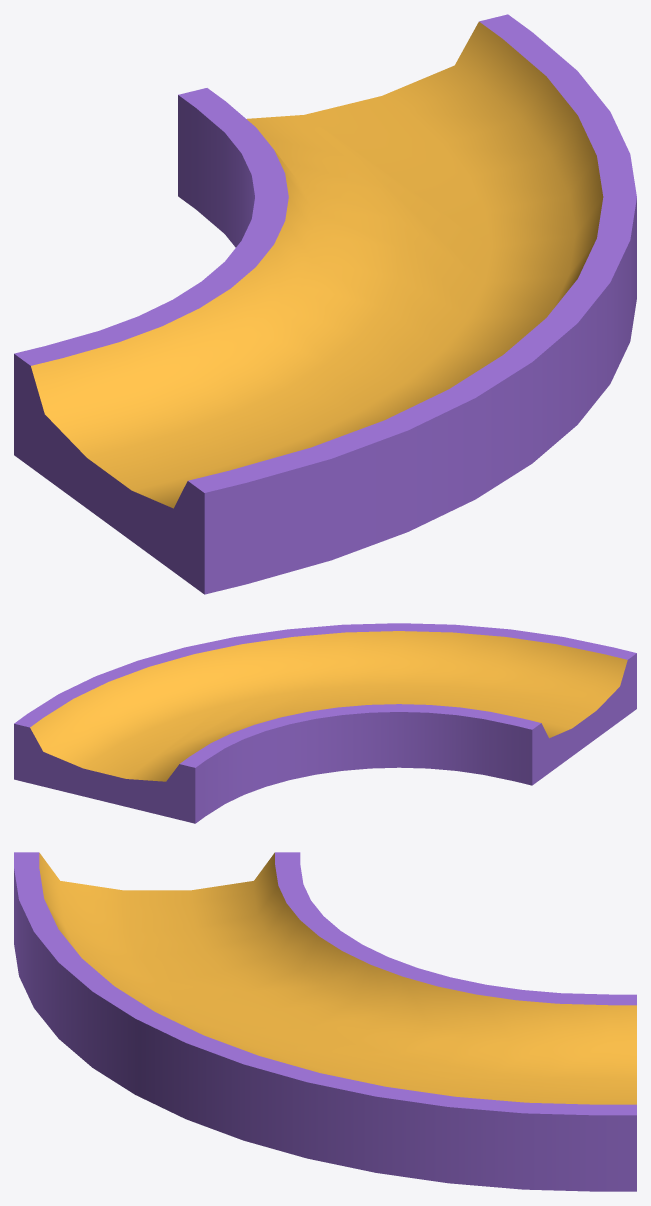
The model's file is kenney-marble-curve-wide-large.glb.
The picture shows the model from 3 angles, top to bottom: view 1: azimuth 30°, elevation 25°; view 2: azimuth 150°, elevation 25°; view 3: azimuth 270°, elevation 25°; orthographic projection. The views are drawn at different scales.
Visible parts, largest first — view 1: curve-wide-large; view 2: curve-wide-large; view 3: curve-wide-large.
Part boxes in pixels (x1,y1,x2,y2): curve-wide-large: (14, 14, 636, 594); curve-wide-large: (14, 623, 636, 823); curve-wide-large: (14, 852, 636, 1191).
Size of the model in its own units: 3.7 by 0.5 by 3.7.
1 material, 1 textured.
